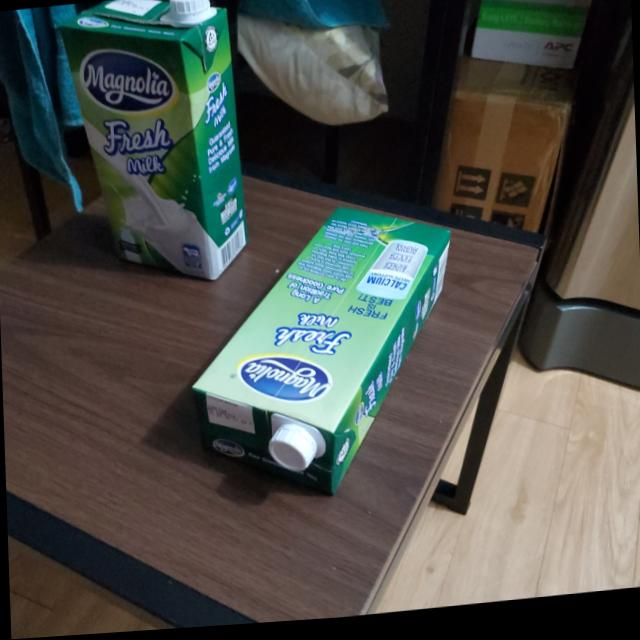milk: (180, 196, 458, 517), (55, 0, 248, 301)
